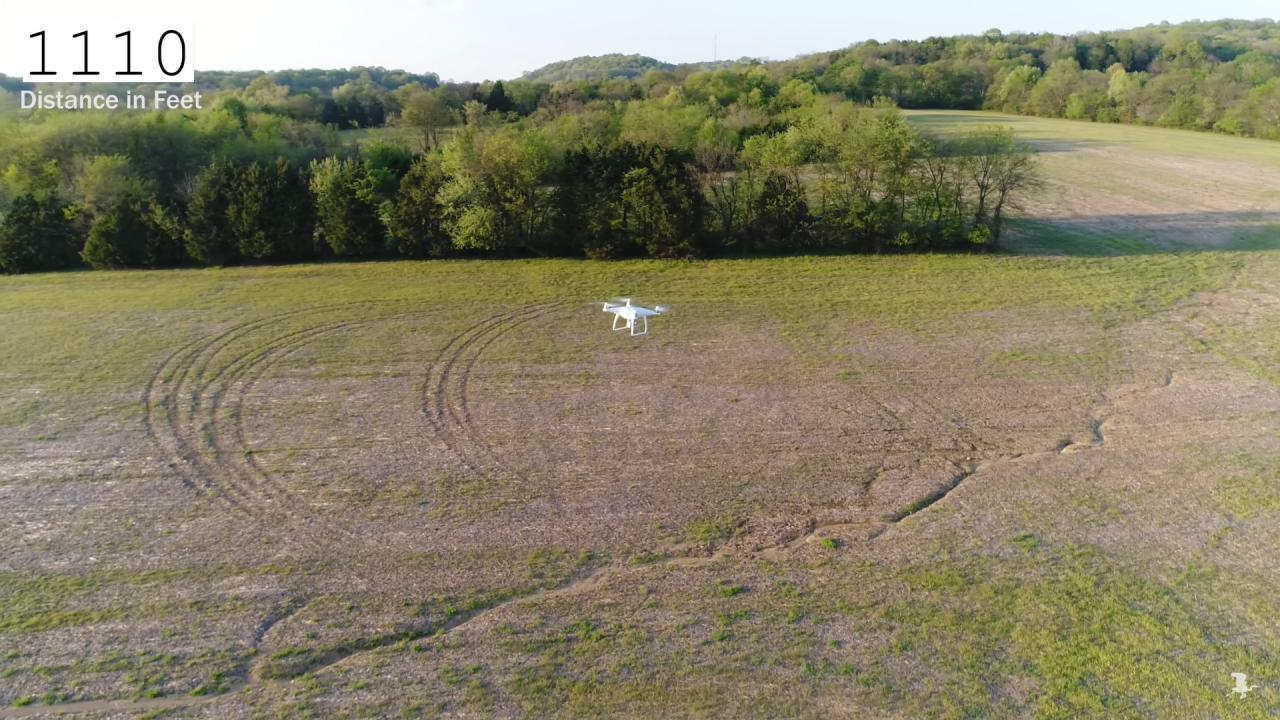Drone: (587, 284, 688, 352)
